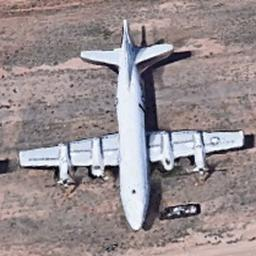Airplane: (17, 18, 255, 231)
